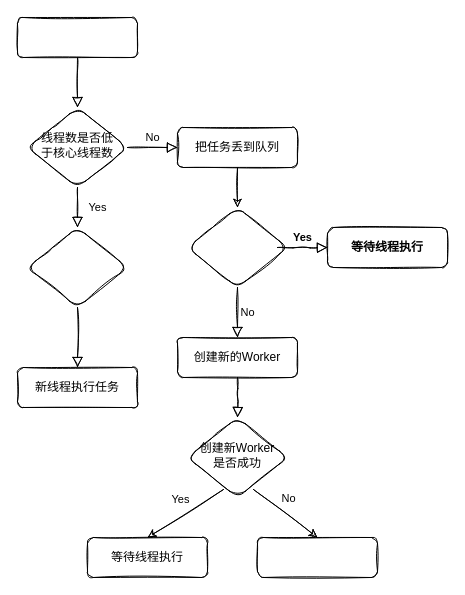
Image size: 465x595. Some labels were removed from this diagram. The centre of each missing label's shape, as x and y in pixels:
"执行拒绝策略" belongs at (317,557).
"放入队列 是否成功" belongs at (237,247).
"新任务" belongs at (77,37).
"新创建一个Worker" belongs at (77,267).
